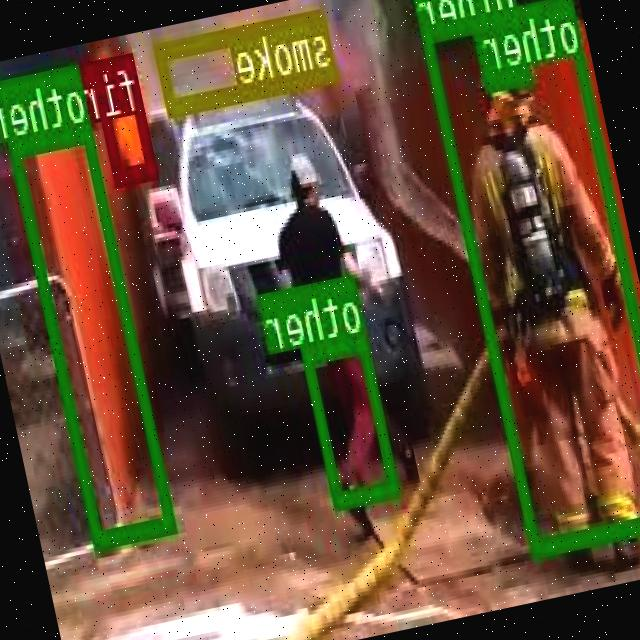fire: (90, 51, 158, 180)
smoke: (157, 7, 340, 112)
